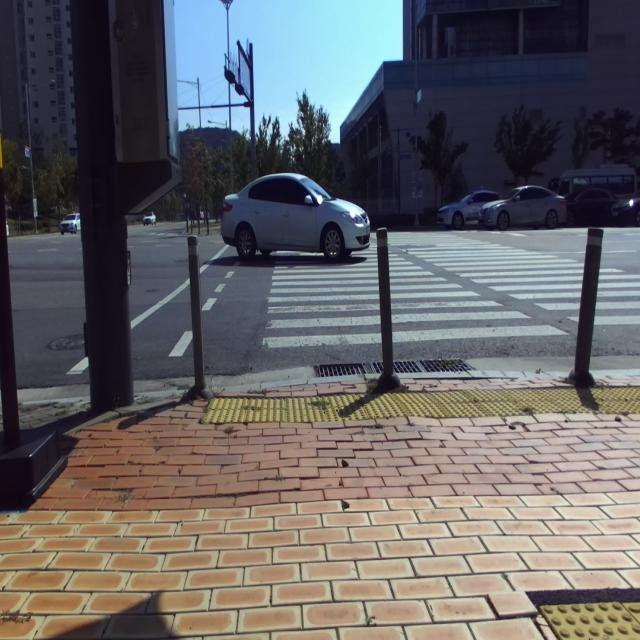횡단보도: (262, 232, 640, 348)
